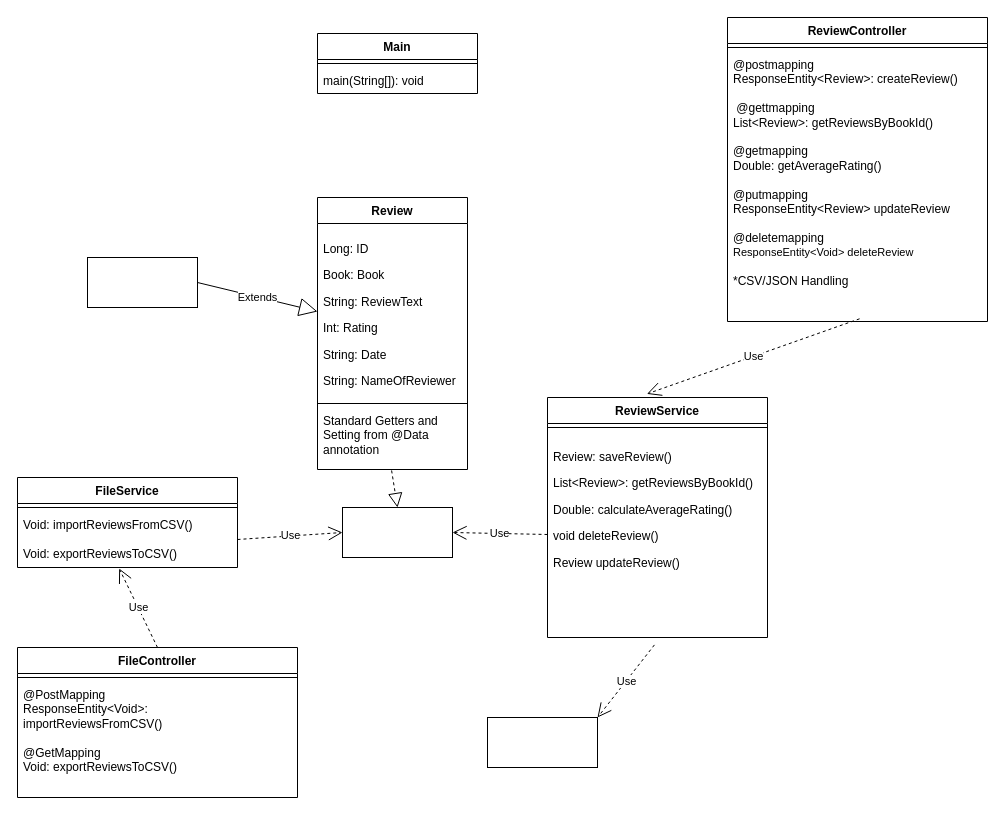
The diagram is 1005 pixels wide and 818 high, and some of its shapes have lost their labels. Here are the shapes that lost their labels. From the top down, the centre of each, then its label:
At (142,282): "JPARepository".
At (397,532): "«interface» ReviewRepository".
At (542,742): "«interface» BookRepository".
